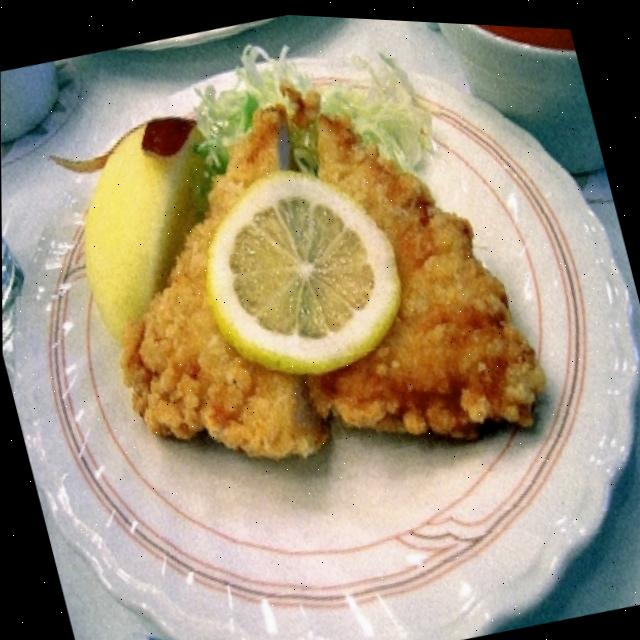炸货点心: (31, 19, 590, 541)
熟制海鲜: (31, 19, 590, 541)
